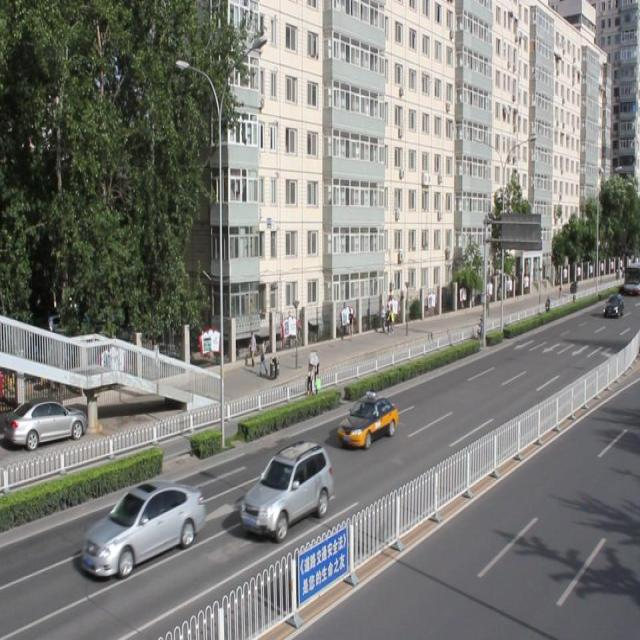car: (81, 477, 206, 578), (239, 440, 334, 536), (338, 392, 399, 446)
